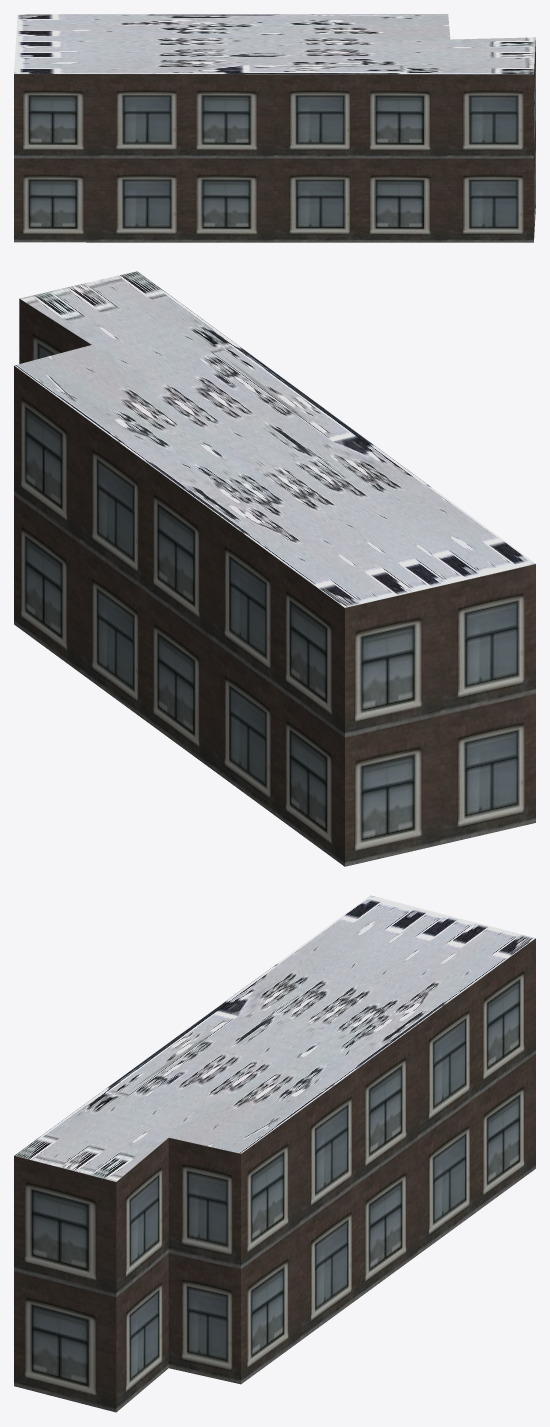
The model's file is ResTex__4043.fbx.
The picture shows the model from 3 angles, top to bottom: view 1: azimuth 30°, elevation 25°; view 2: azimuth 150°, elevation 25°; view 3: azimuth 270°, elevation 25°; orthographic projection. The views are drawn at different scales.
Visible parts, largest first — view 1: CityEngineMaterial_16_m, CityEngineMaterial_15_m; view 2: CityEngineMaterial_16_m, CityEngineMaterial_15_m; view 3: CityEngineMaterial_16_m, CityEngineMaterial_15_m.
Boxes of the visible parts, x1,y1,x2,y2 form: CityEngineMaterial_16_m: (14,40,535,242); CityEngineMaterial_15_m: (14,14,535,74); CityEngineMaterial_16_m: (14,298,535,866); CityEngineMaterial_15_m: (14,271,535,607); CityEngineMaterial_16_m: (14,938,535,1412); CityEngineMaterial_15_m: (14,895,535,1181).
Bounding box in the file's own units: 16 × 6 × 12.31.
Materials: 2 (2 with a texture image).
